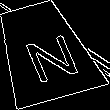N_N: (11, 22, 77, 82)
